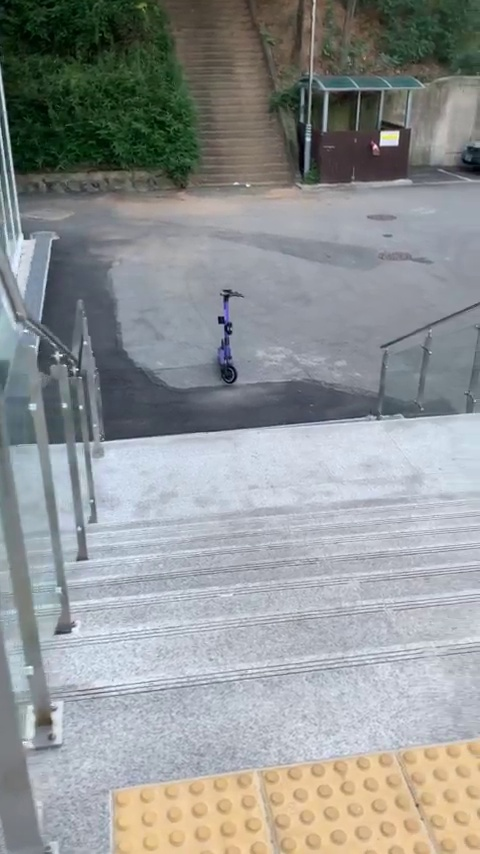beam: (210, 281, 245, 397)
